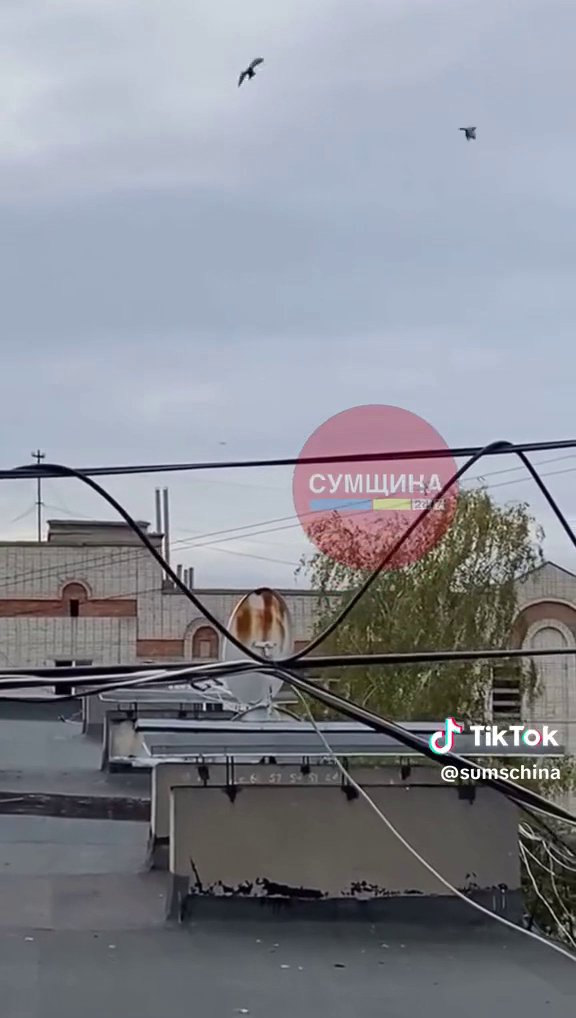not_drone: (235, 54, 268, 90)
